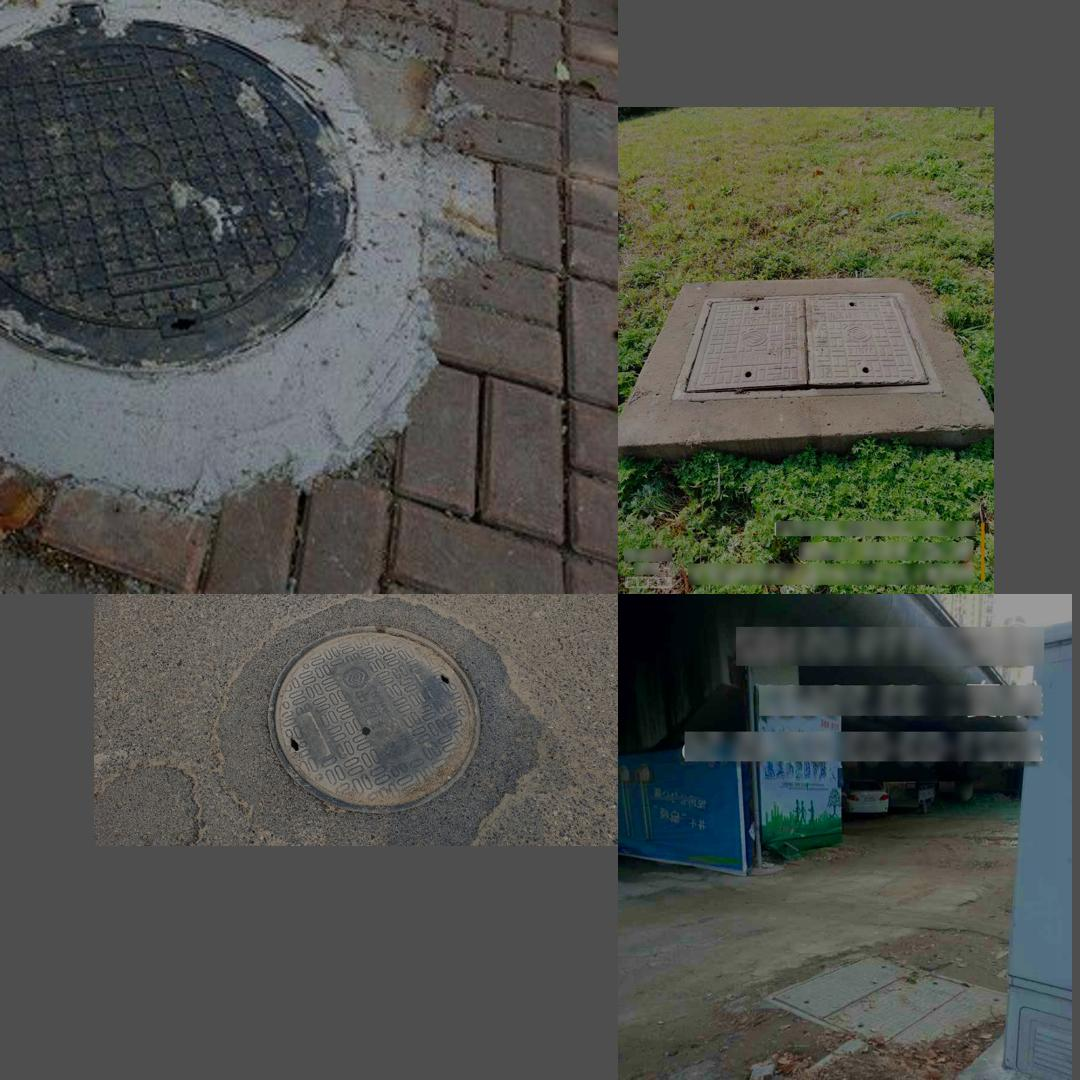good: (0, 0, 434, 484), (266, 633, 480, 811), (673, 281, 917, 401), (762, 955, 1009, 1048)
